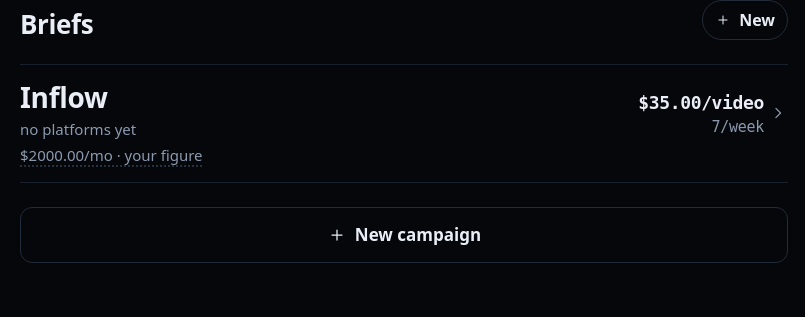
Scenario: pay per month on each brief › puts the estimate back when he resets it
Expected: the heading "Briefs" is shown, [20,8,93,40]
Click the button with aria-label "Pay per month for Inflow" at (111, 156), box [20,145,203,166]
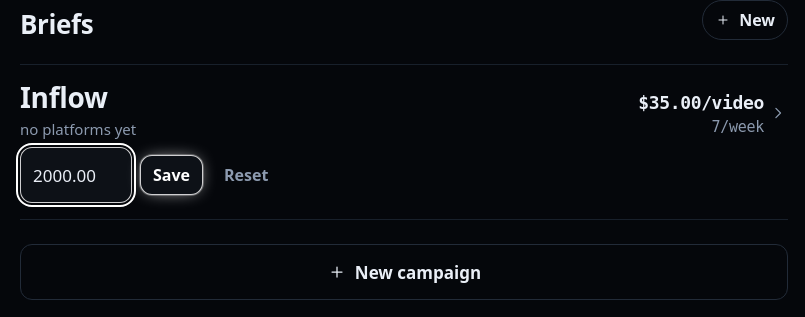
Click the button "Reset" at (246, 175), box [211,155,281,195]
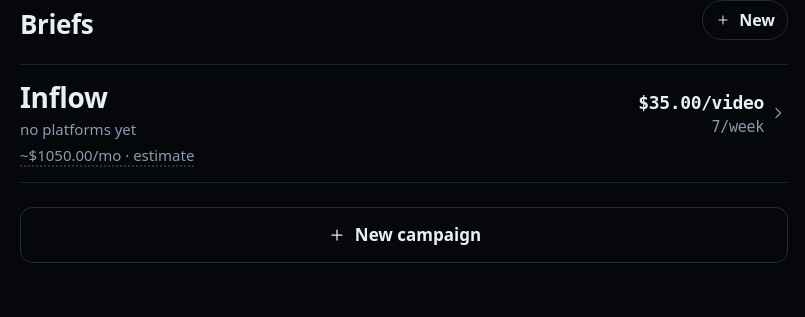
Now the button "~$1050.00/mo · estimate" is shown, box [20,145,194,166]
